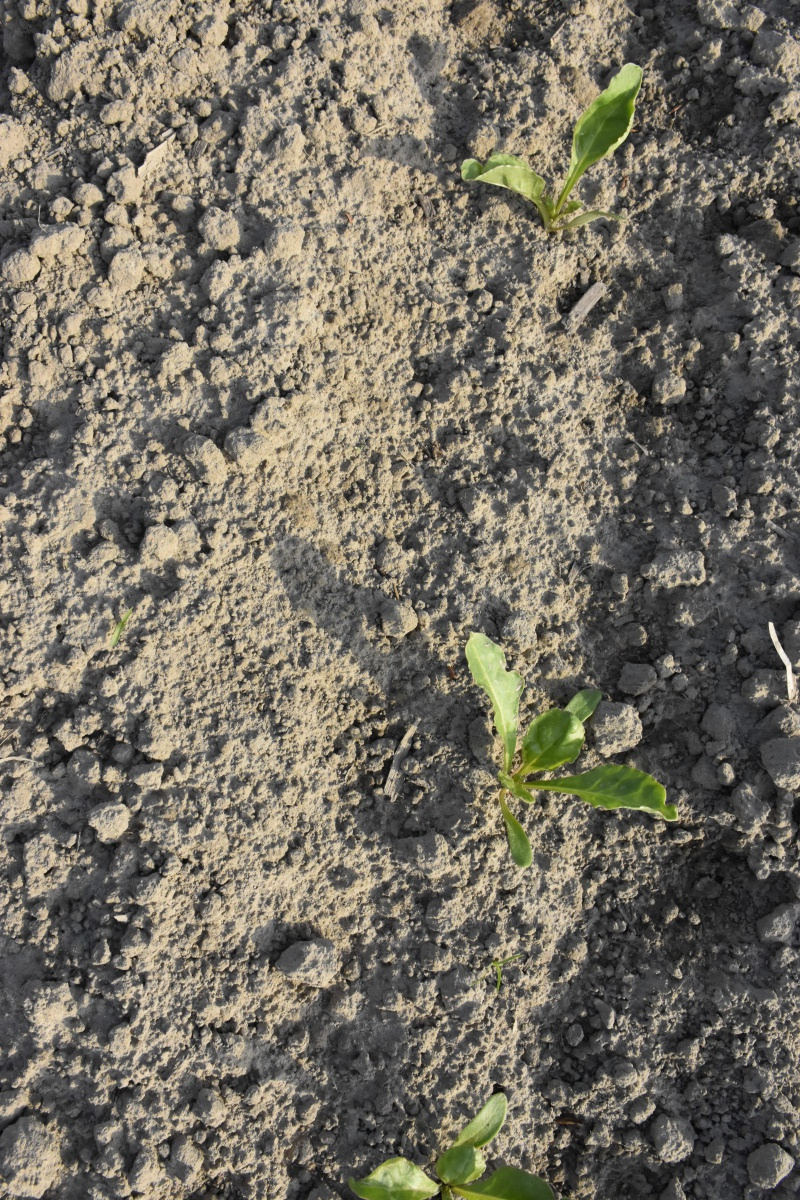sugar beet: (460, 628, 683, 872), (455, 56, 664, 232), (335, 1104, 566, 1200)
